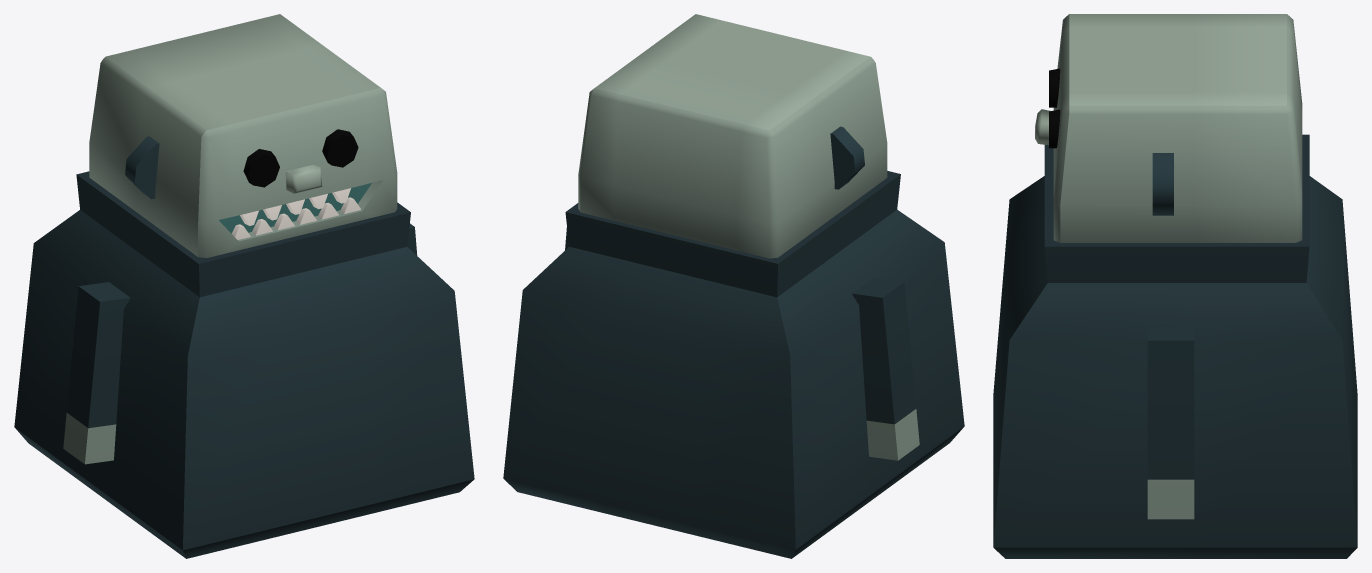
File: creeper-uncle-feter.fbx
3 renders of one model, left to right at view 1: azimuth 30°, elevation 25°; view 2: azimuth 150°, elevation 25°; view 3: azimuth 270°, elevation 25°, orthographic. The views are drawn at different scales.
Parts seen in each view (by area): view 1: uncle-fester-creeper; view 2: uncle-fester-creeper; view 3: uncle-fester-creeper.
Boxes of the visible parts, x1,y1,x2,y2 form: uncle-fester-creeper: [14, 14, 474, 558]; uncle-fester-creeper: [503, 14, 964, 558]; uncle-fester-creeper: [993, 14, 1357, 558].
Bounding box in the file's own units: 1.36 × 1.5 × 1.16.
